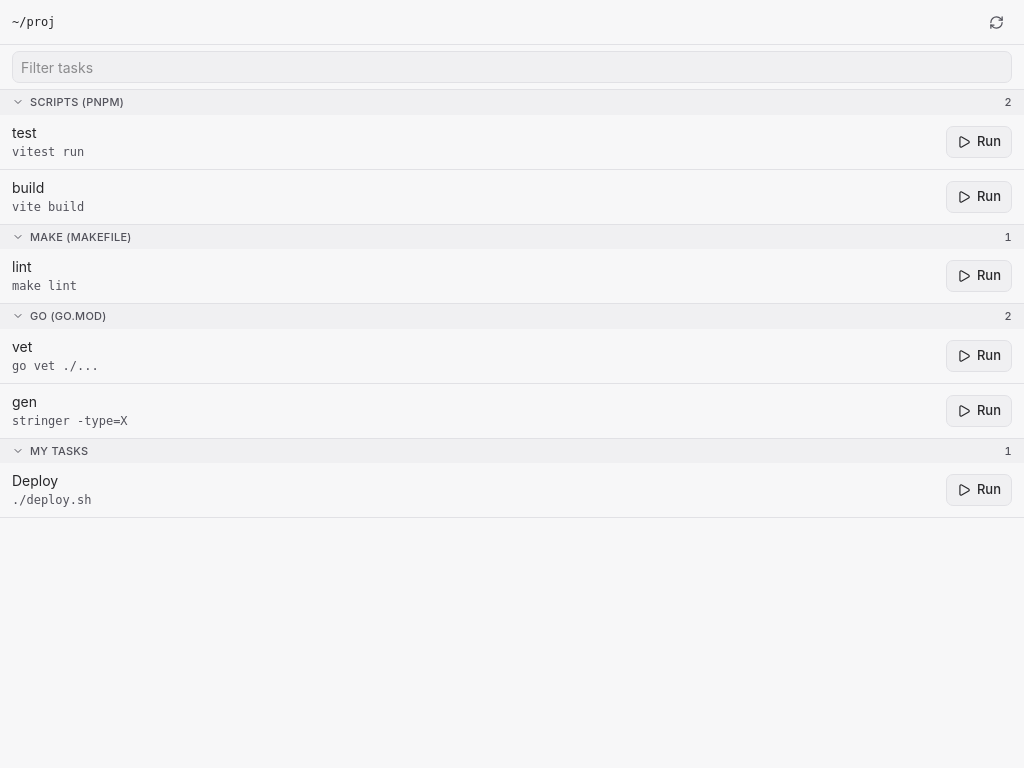
Test: TasksView listing › shows each tool group after Make and before My tasks
The width and height of the screenshot is (1024, 768).
Check: the text "go vet ./..." is shown, box x1=12 y1=358 x2=99 y2=372
Check: the text "stringer -type=X" is shown, box x1=12 y1=414 x2=128 y2=428
Note: The filter reads tool tasks too
Type "stringer" into the search field labelled "Filter tasks".
click(512, 67); type("stringer")  # box x1=12 y1=51 x2=1012 y2=83
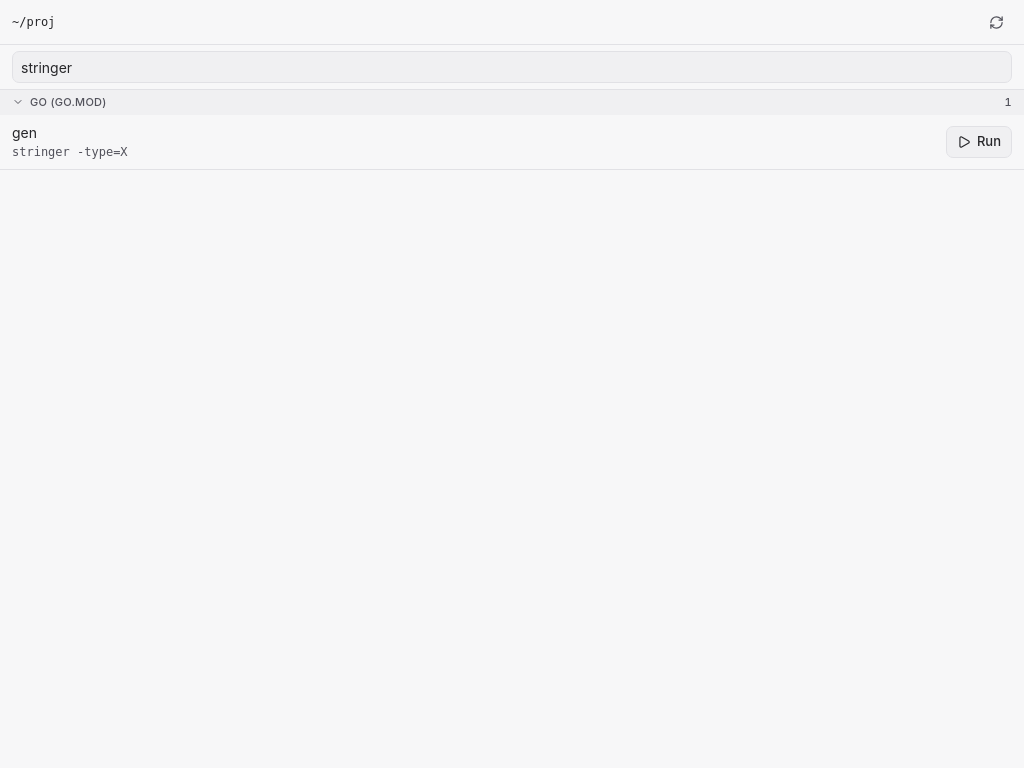
Check: the number of list items with test id "task-row" is 1, box x1=0 y1=114 x2=1023 y2=170
